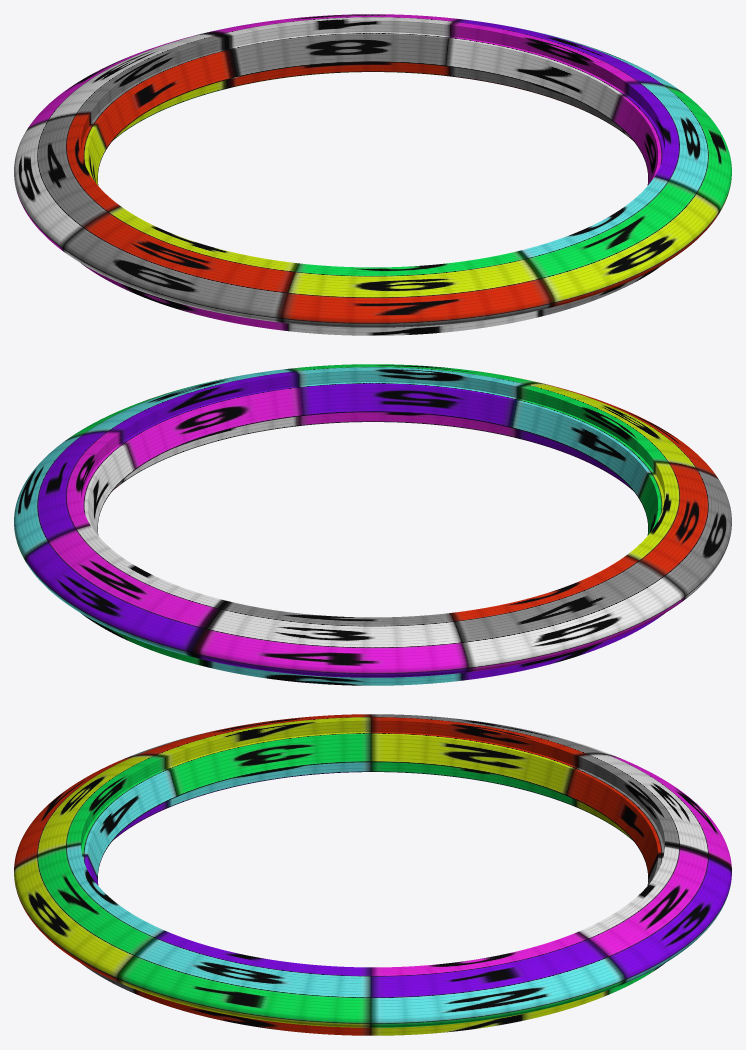
The model's file is anneau.glb.
3 views of the same model, one above another, from view 1: azimuth 30°, elevation 25°; view 2: azimuth 150°, elevation 25°; view 3: azimuth 270°, elevation 25° (orthographic).
Parts seen in each view (by area): view 1: lunette-top; view 2: lunette-top; view 3: lunette-top.
Part boxes in pixels (x1,y1,x2,y2): lunette-top: (14, 14, 731, 335); lunette-top: (14, 364, 731, 685); lunette-top: (14, 714, 731, 1035).
Size of the model in its own units: 5.36 by 0.4144 by 5.36.
1 material, 1 textured.
